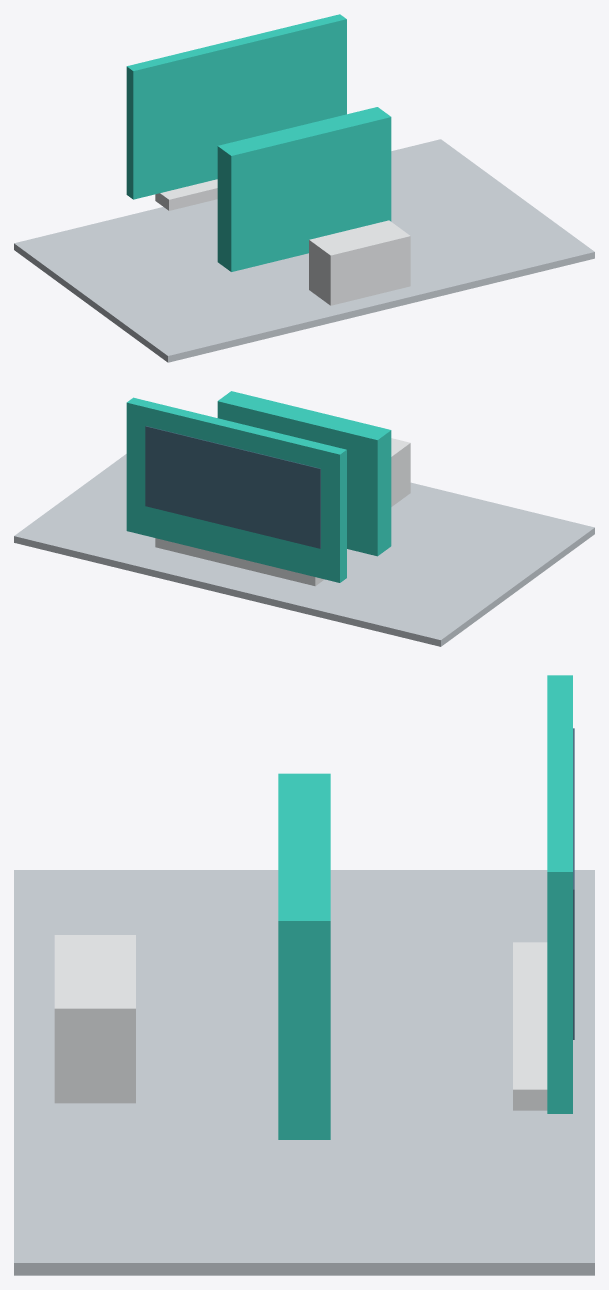
3 renders of one model, top to bottom at view 1: azimuth 30°, elevation 25°; view 2: azimuth 150°, elevation 25°; view 3: azimuth 270°, elevation 25°, orthographic. The views are drawn at different scales.
Visible parts, largest first — view 1: Exhibition Booth Concept; view 2: Exhibition Booth Concept; view 3: Exhibition Booth Concept.
Part boxes in pixels (x1,y1,x2,y2): Exhibition Booth Concept: (14, 14, 594, 362); Exhibition Booth Concept: (14, 391, 594, 646); Exhibition Booth Concept: (14, 675, 594, 1275).
Bounding box in the file's own units: 8 × 2.9 × 5.
